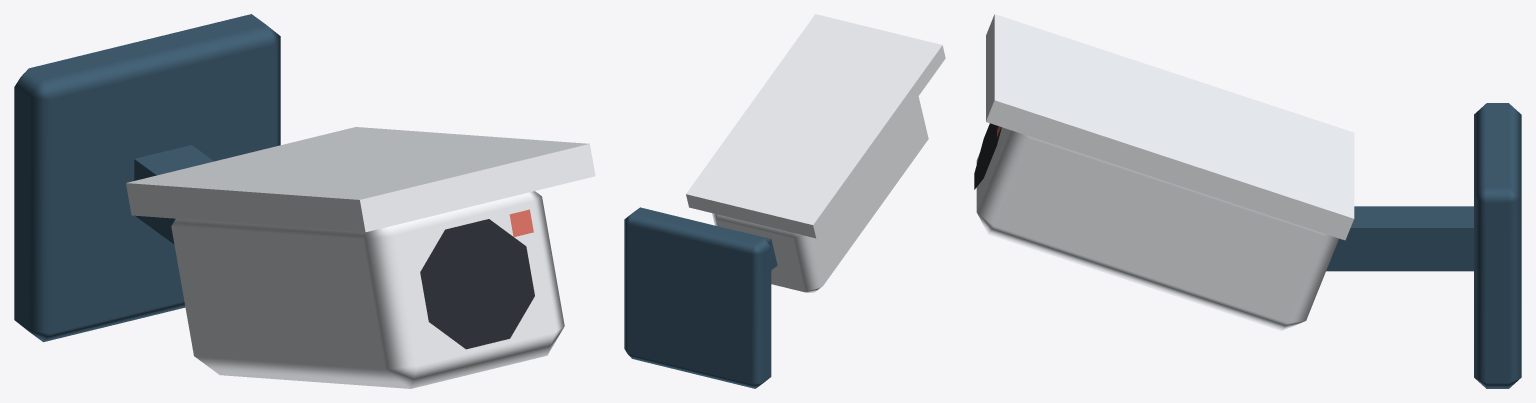
The model's file is CM_Interior_SecurityCamera.fbx.
3 renders of one model, left to right at view 1: azimuth 30°, elevation 25°; view 2: azimuth 150°, elevation 25°; view 3: azimuth 270°, elevation 25°, orthographic. The views are drawn at different scales.
Parts seen in each view (by area): view 1: Body, Lens; view 2: Body; view 3: Body, Lens.
Part boxes in pixels (x1,y1,x2,y2): Body: (14, 14, 595, 388); Lens: (420, 209, 534, 349); Body: (624, 14, 945, 388); Body: (976, 14, 1521, 388); Lens: (974, 123, 1001, 189).
Bounding box in the file's own units: 0.7 × 1.72 × 1.
Materials: 1 (1 with a texture image).
